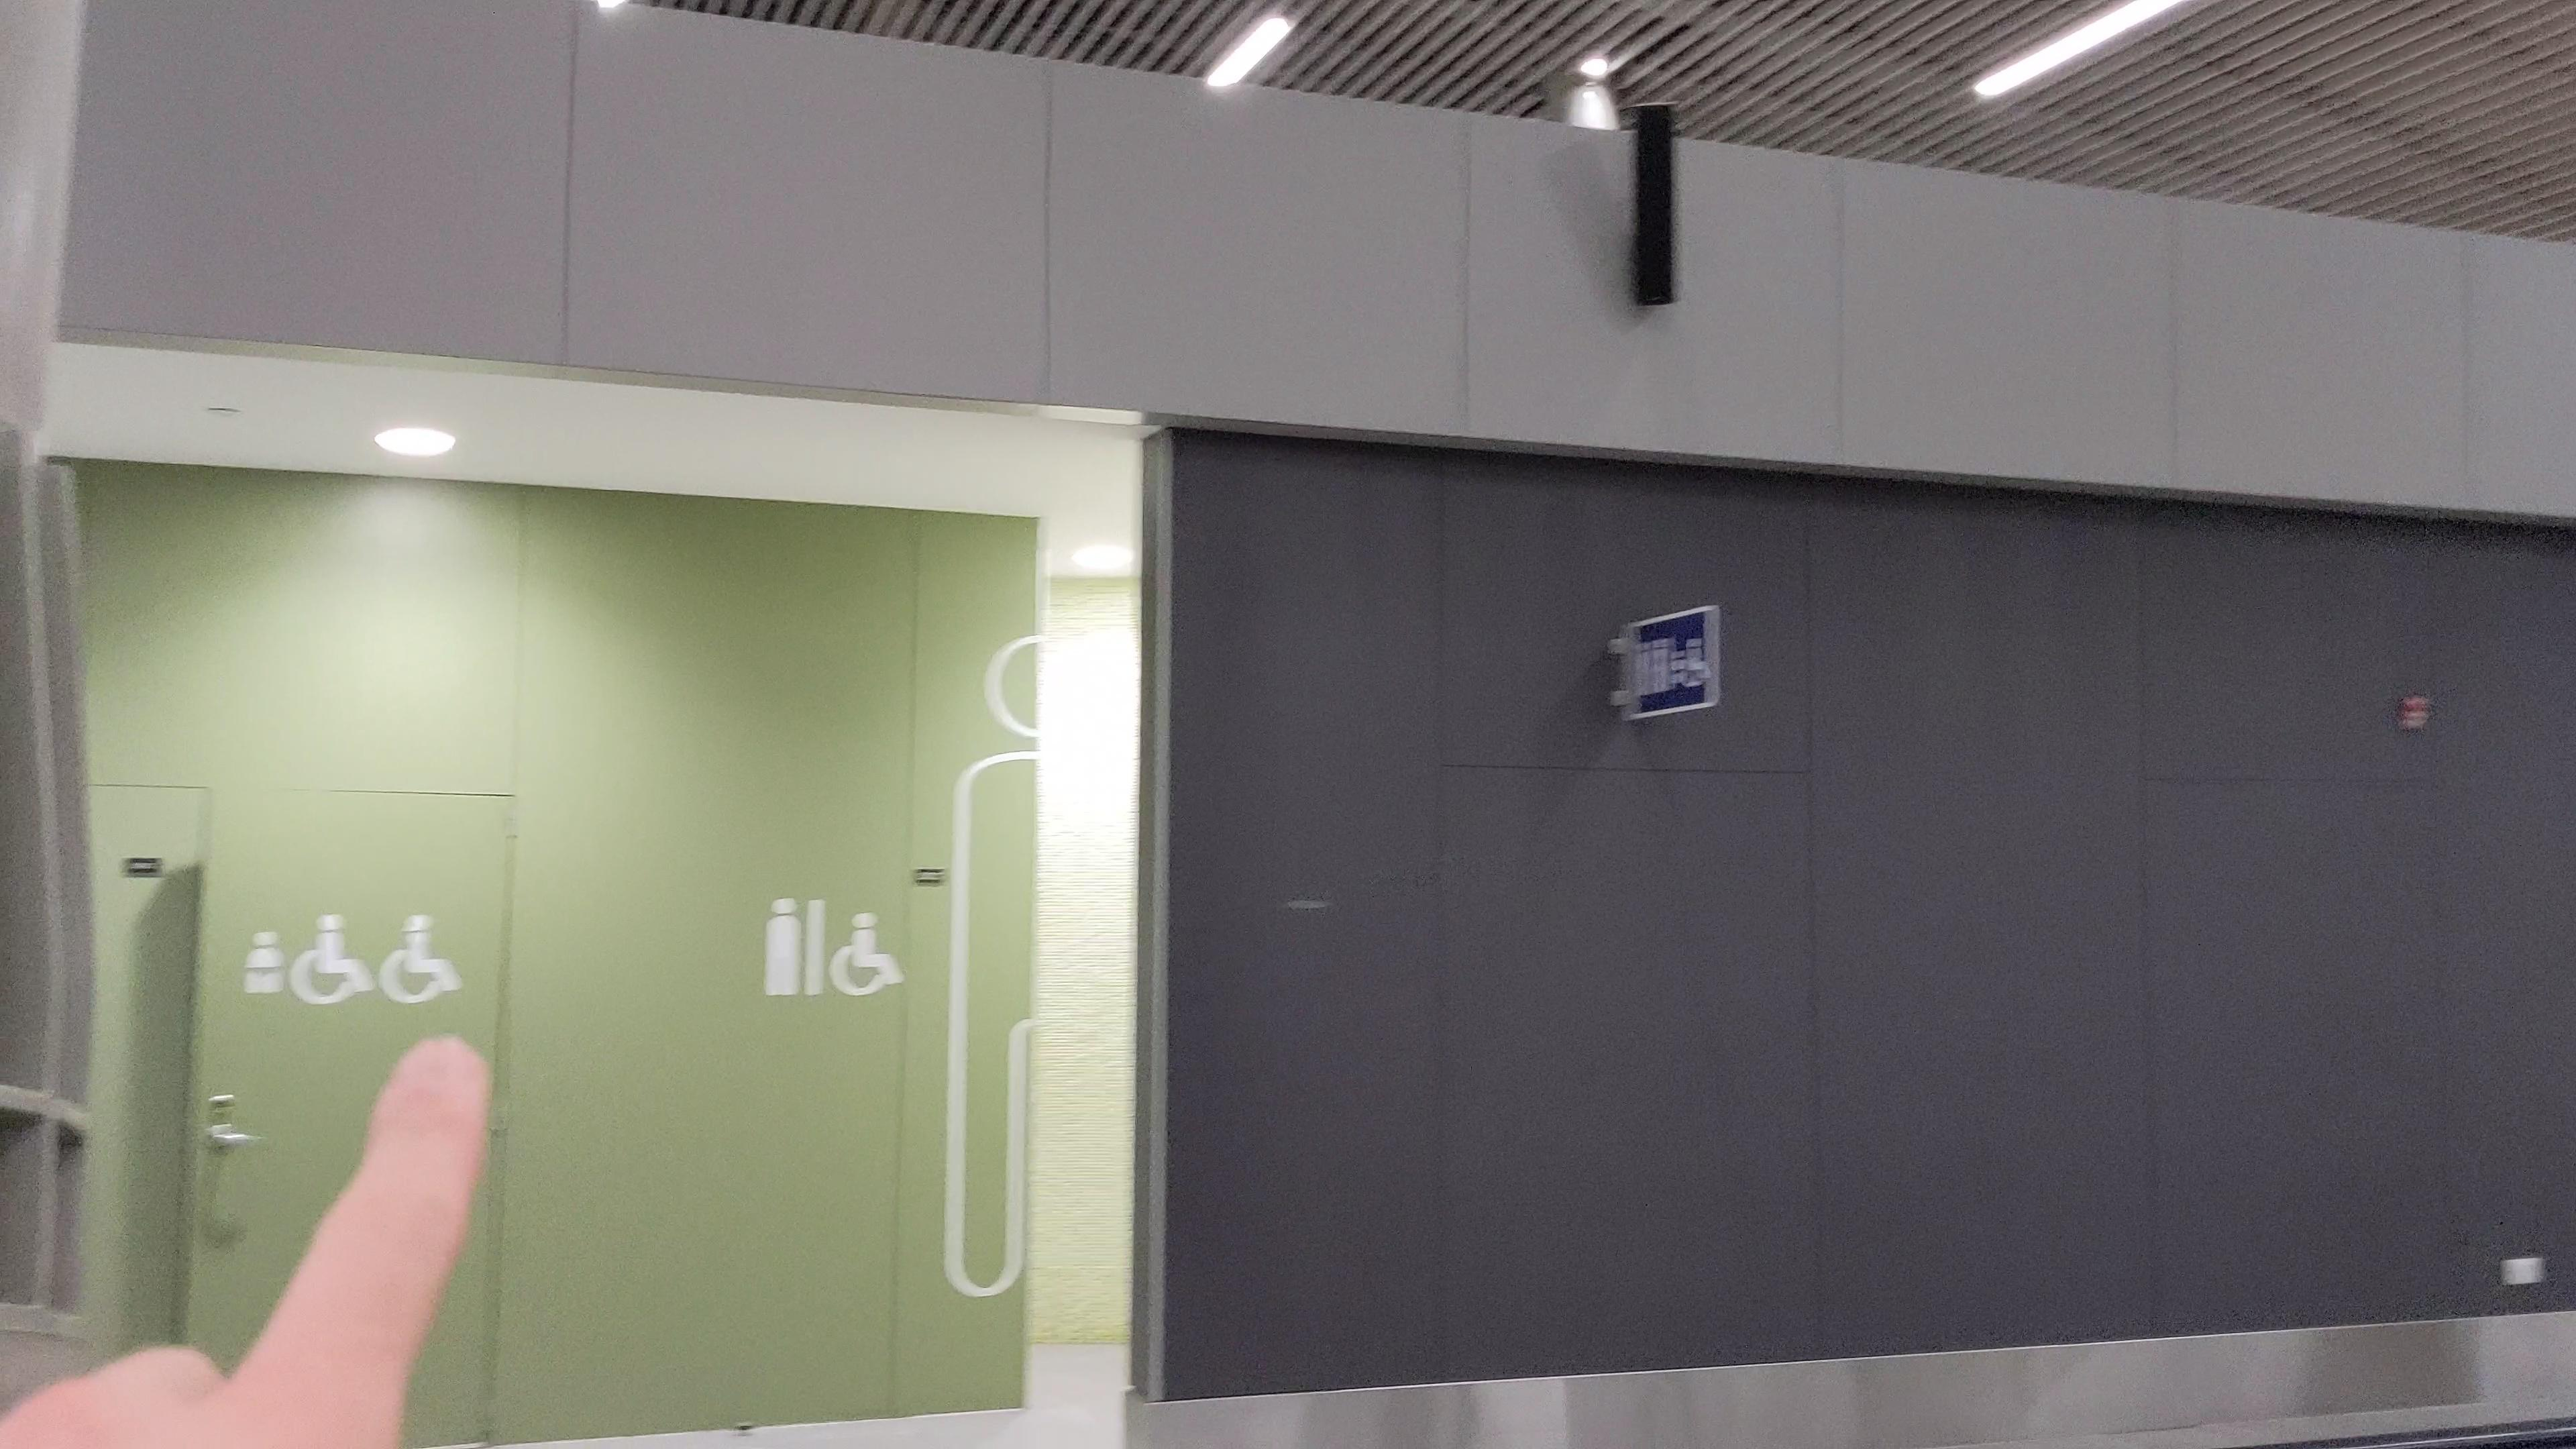handicapped symbol: (377, 909, 464, 1007), (290, 911, 375, 1008), (830, 911, 906, 1001), (1683, 633, 1711, 688)
